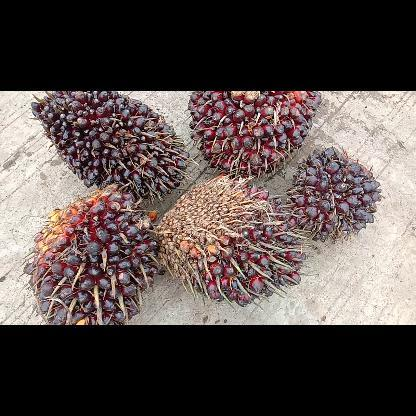TBS mentah: (156, 174, 312, 309), (20, 182, 158, 324), (28, 92, 196, 202), (186, 91, 322, 177), (284, 147, 380, 243)
